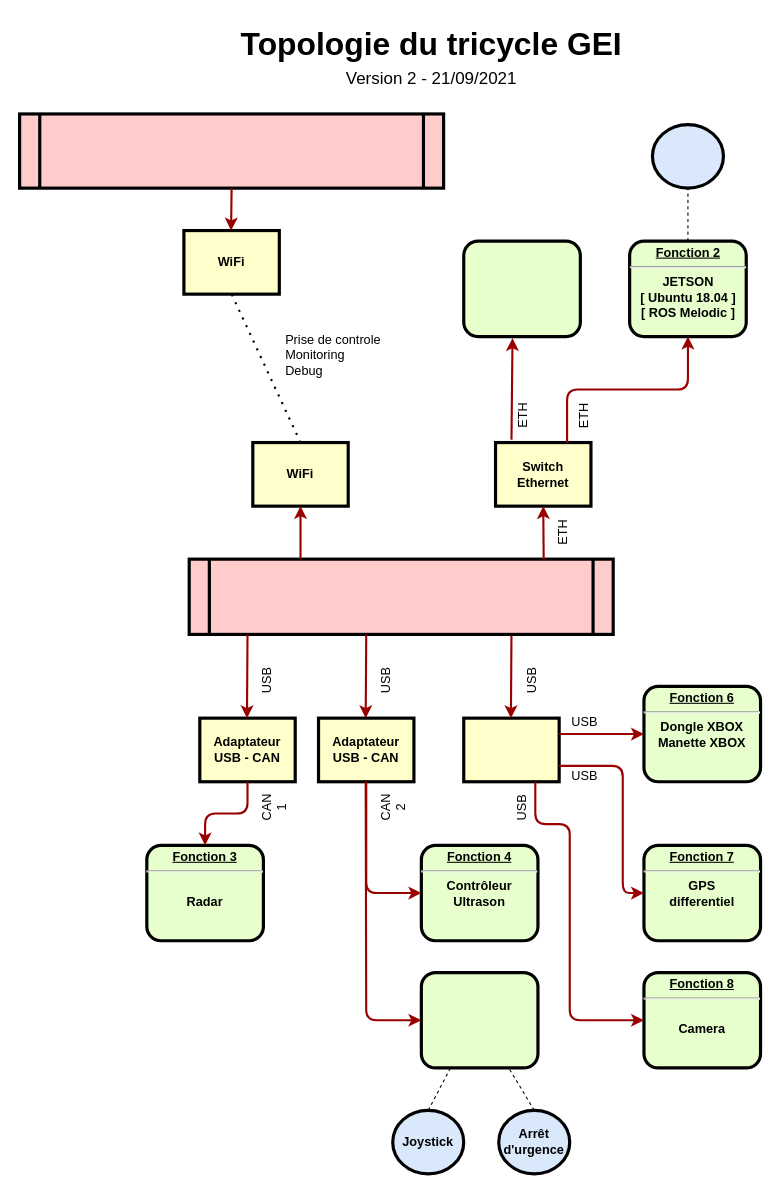
This 780x1194 diagram has some shape labels left out. Each missing label, with the centre of its shape:
"Camera RPI" goes at point (687, 155).
"Fonction 1 LIDAR" goes at point (521, 288).
"Fonction 5 Moteur Direction Frein IMU" goes at point (479, 1019).
"Hub USB" goes at point (511, 749).
"PC portable (sol) [ Ubuntu 20.04 ] [ Baidu Apollo 2.5 ]" goes at point (231, 150).
"PC portable avec carte GTX (embarqué) [ Ubuntu 18.04 ] [ Baidu Apollo 2.5 ]" goes at point (400, 596).
